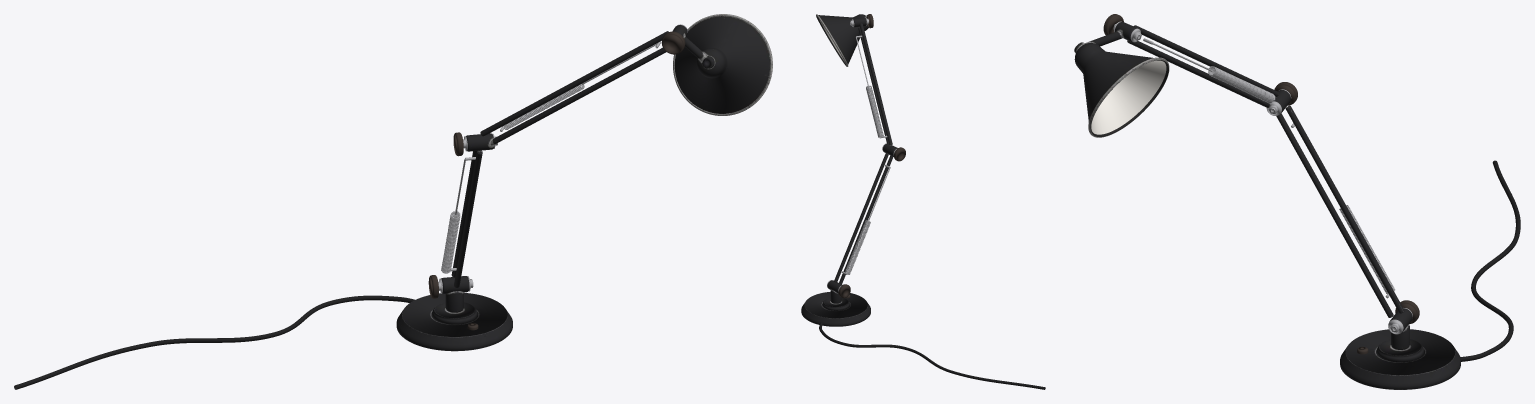
Rendered from lamp.glb.
The picture shows the model from 3 angles, left to right: view 1: azimuth 30°, elevation 25°; view 2: azimuth 150°, elevation 25°; view 3: azimuth 270°, elevation 25°; orthographic projection. The views are drawn at different scales.
Visible parts, largest first — view 1: lamp_body, cord, lamp_steel, lamp_bakelite; view 2: lamp_body, lamp_steel, cord, lamp_bakelite; view 3: lamp_body, shade_inner, lamp_steel, cord, lamp_bakelite.
Boxes of the visible parts, left/top/right/bottom form: lamp_body: left=396, top=14, right=772, bottom=351; cord: left=14, top=295, right=414, bottom=389; lamp_steel: left=438, top=24, right=687, bottom=293; lamp_bakelite: left=428, top=31, right=685, bottom=330; lamp_body: left=801, top=14, right=897, bottom=326; lamp_steel: left=827, top=17, right=896, bottom=291; cord: left=819, top=322, right=1045, bottom=389; lamp_bakelite: left=838, top=14, right=905, bottom=298; lamp_body: left=1074, top=22, right=1460, bottom=389; shade_inner: left=1091, top=60, right=1166, bottom=134; lamp_steel: left=1113, top=21, right=1412, bottom=334; cord: left=1460, top=160, right=1520, bottom=361; lamp_bakelite: left=1103, top=14, right=1419, bottom=354.
Size of the model in its own units: 2.52 by 1.6 by 1.65.
5 materials, 1 textured.
